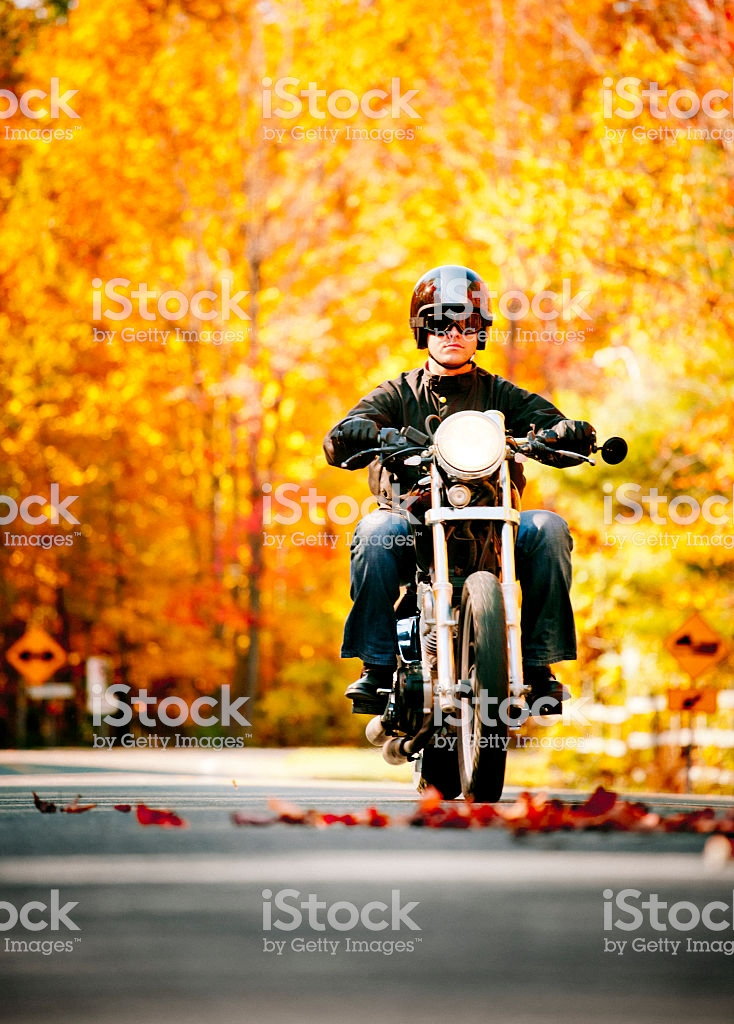helmet: (411, 271, 492, 350)
